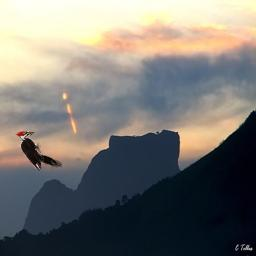Woodpecker: (15, 131, 62, 172)
